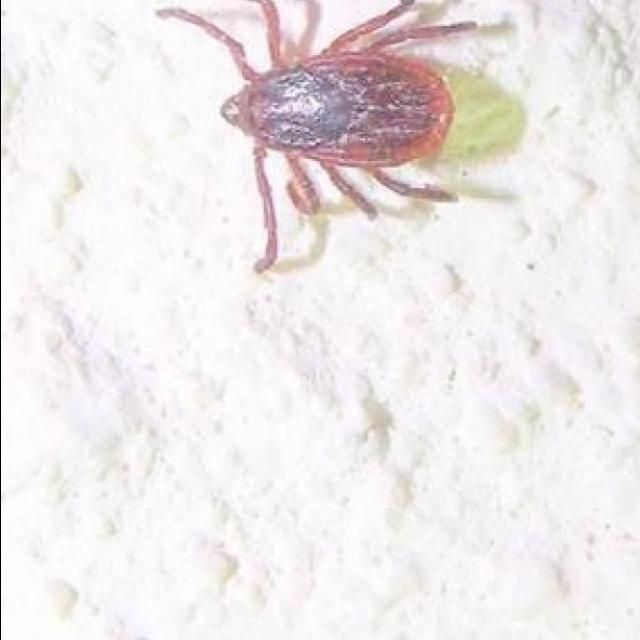Rhipicephalus Sanguineus-F: (156, 0, 466, 275)
